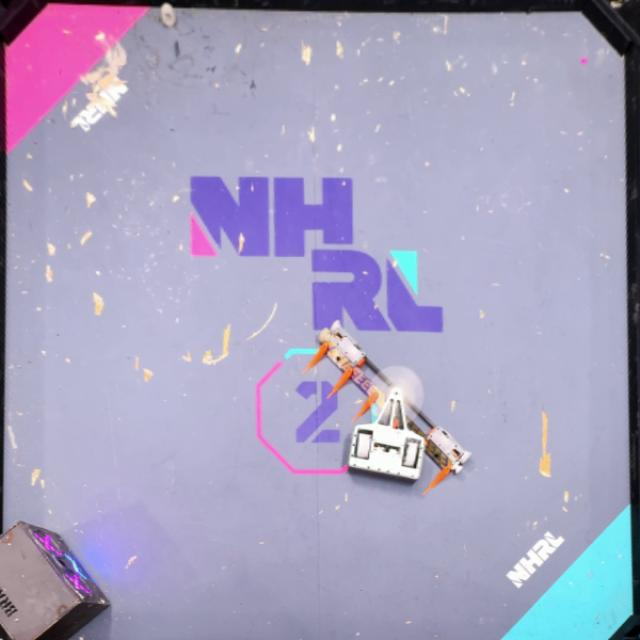housebot: (0, 520, 111, 639)
robot: (302, 321, 472, 490), (342, 364, 426, 484)
